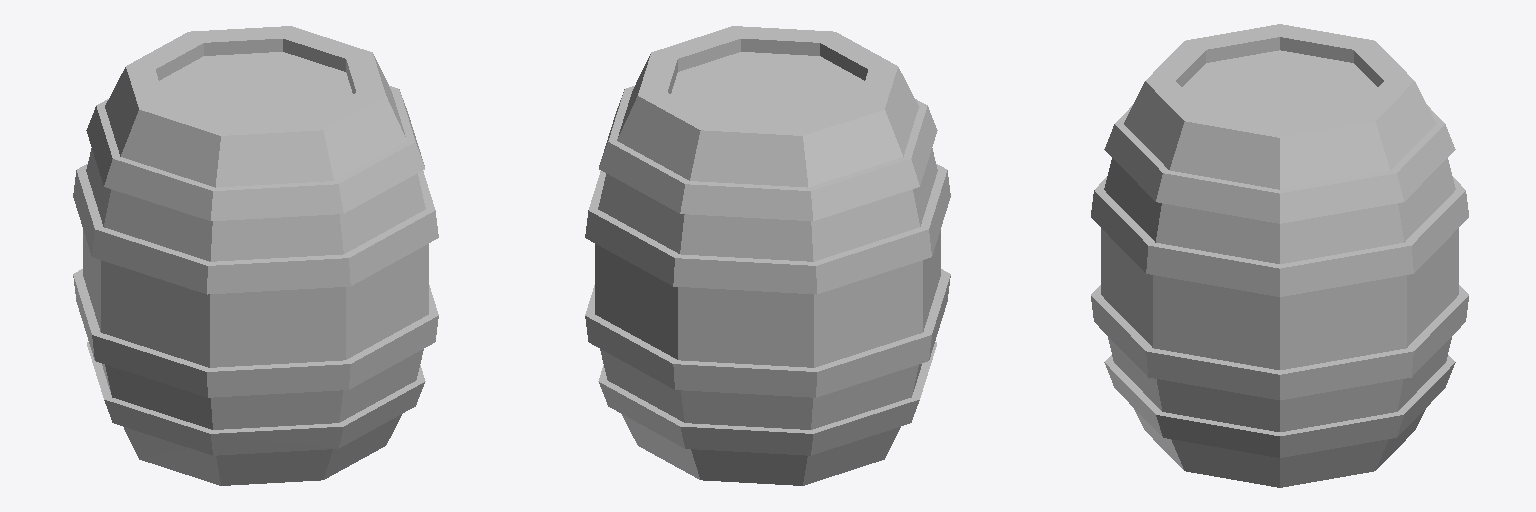
The model's file is barrel_001.obj.
The picture shows the model from 3 angles: view 1: azimuth 30°, elevation 25°; view 2: azimuth 150°, elevation 25°; view 3: azimuth 270°, elevation 25°; orthographic projection.
Parts seen in each view (by area): view 1: barrel_001; view 2: barrel_001; view 3: barrel_001.
Part boxes in pixels (bbox=[...]): barrel_001: bbox=[73, 26, 438, 485]; barrel_001: bbox=[585, 26, 950, 485]; barrel_001: bbox=[1091, 24, 1468, 487].
Size of the model in its own units: 0.7118 by 0.7257 by 0.7118.